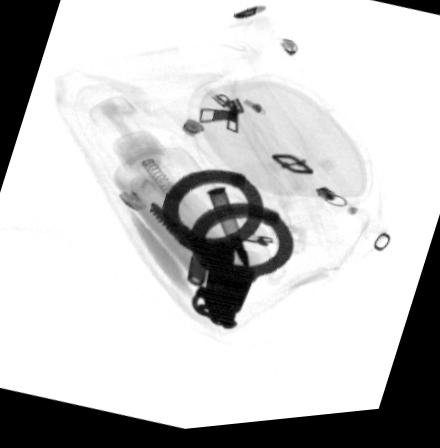Bullet: (206, 190, 248, 273)
HandCuffs: (152, 172, 295, 333)
